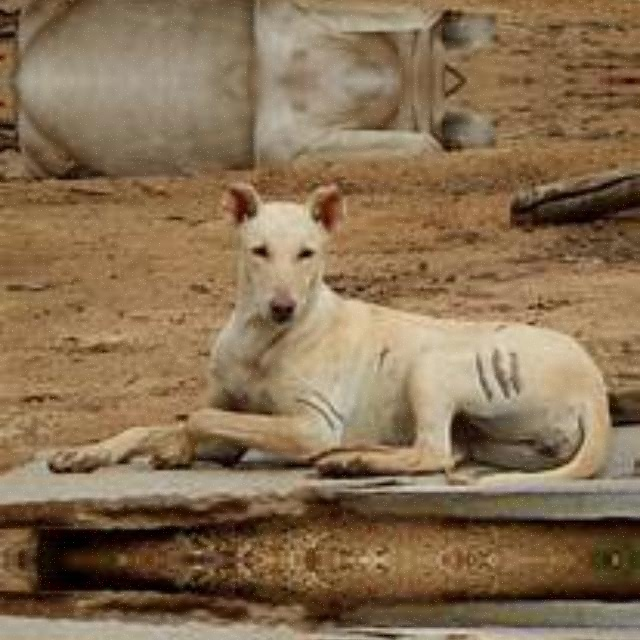dog: (173, 180, 628, 534), (173, 584, 628, 640)
